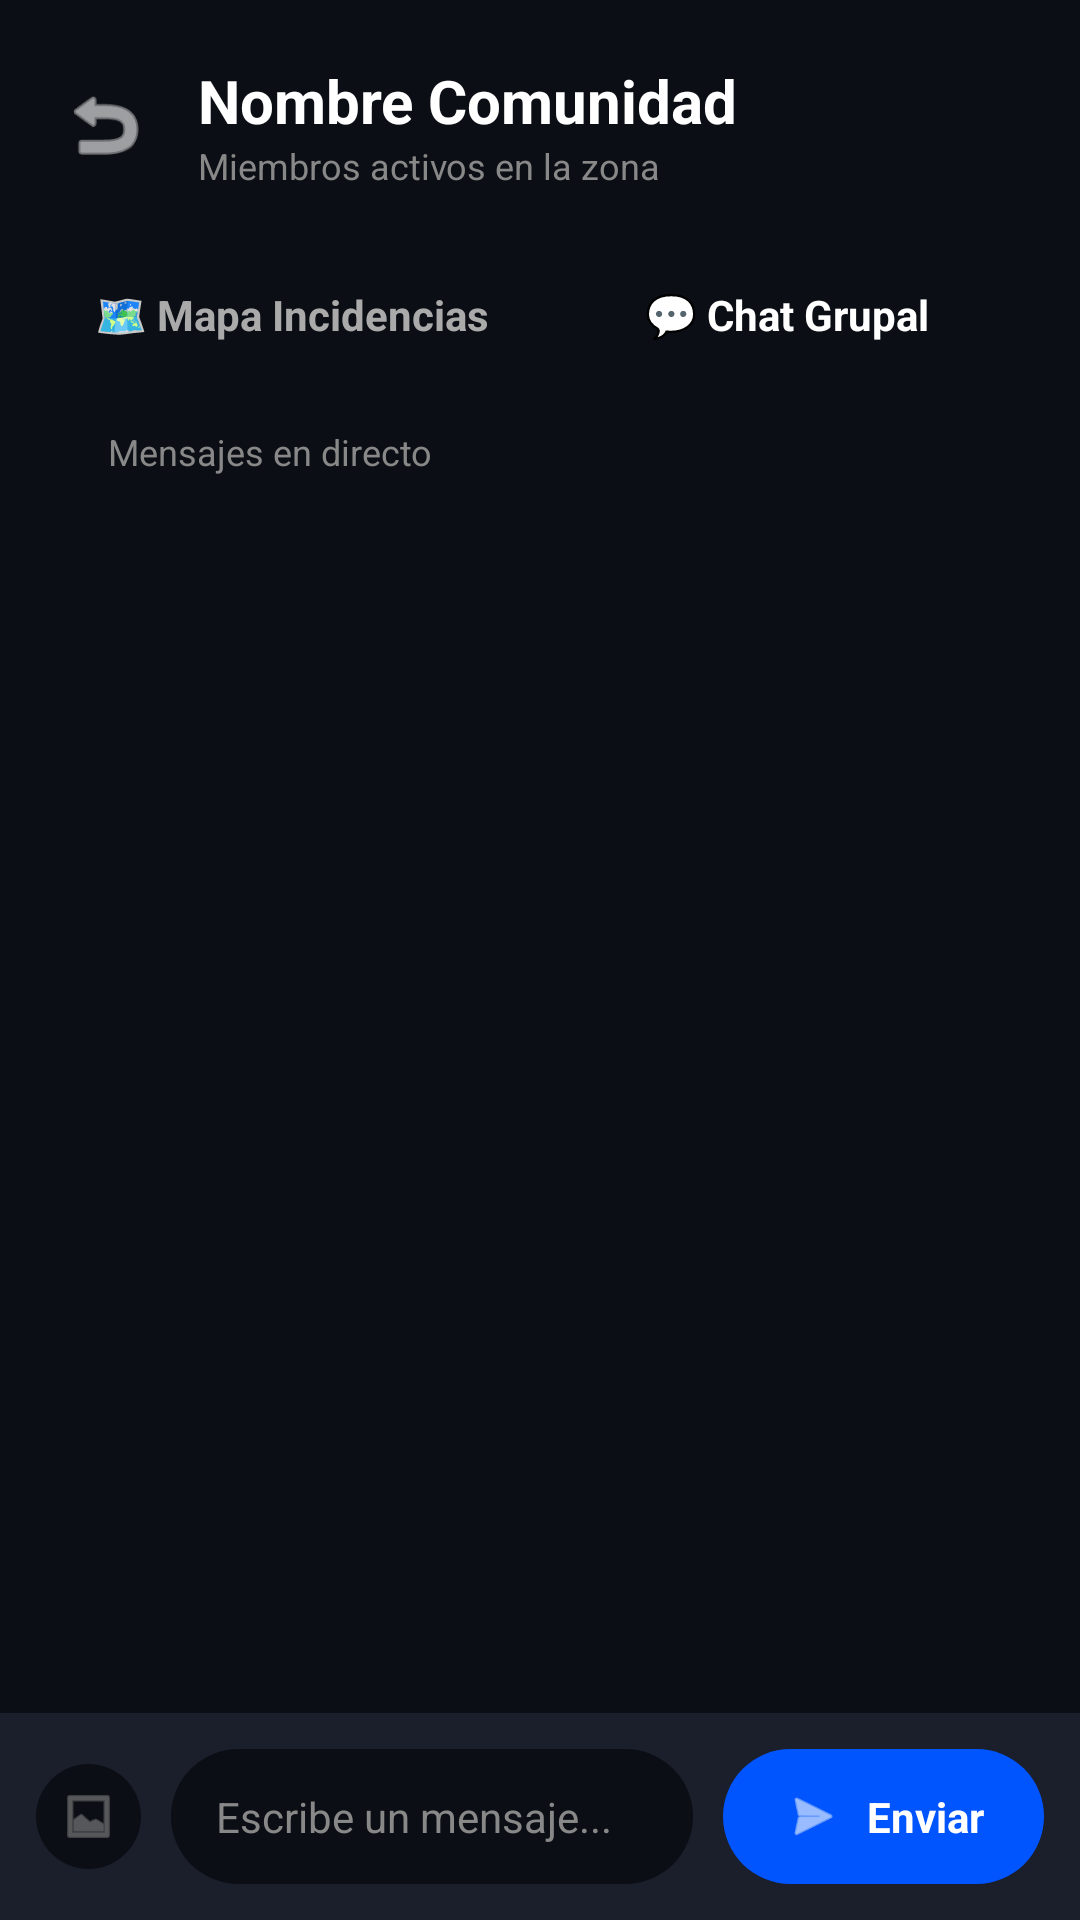

Screen size 1080px x 1920px. Icon name, then its box in pixels as (x1, y1, x2, y2):
gallery: (67, 1795, 110, 1838)
revert: (74, 96, 139, 155)
send: (794, 1797, 833, 1835)
